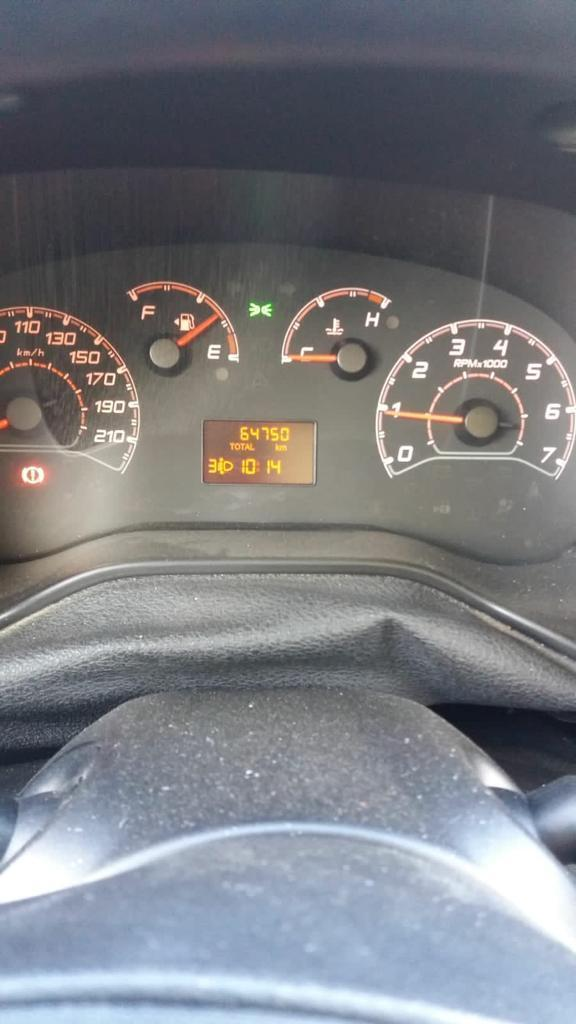0: (245, 457, 256, 475), (280, 426, 289, 442)
1: (265, 458, 271, 475), (240, 459, 245, 475)
3: (207, 458, 217, 473)
4: (270, 459, 281, 474), (249, 426, 259, 440)
5: (269, 427, 279, 441)
6: (239, 426, 249, 440)
7: (260, 426, 269, 441)
X: (255, 461, 261, 472), (279, 444, 287, 452), (249, 441, 255, 451), (244, 443, 250, 451), (234, 442, 240, 450), (228, 442, 234, 450), (240, 442, 245, 450), (275, 442, 279, 451)
odometer: (200, 417, 317, 487)
